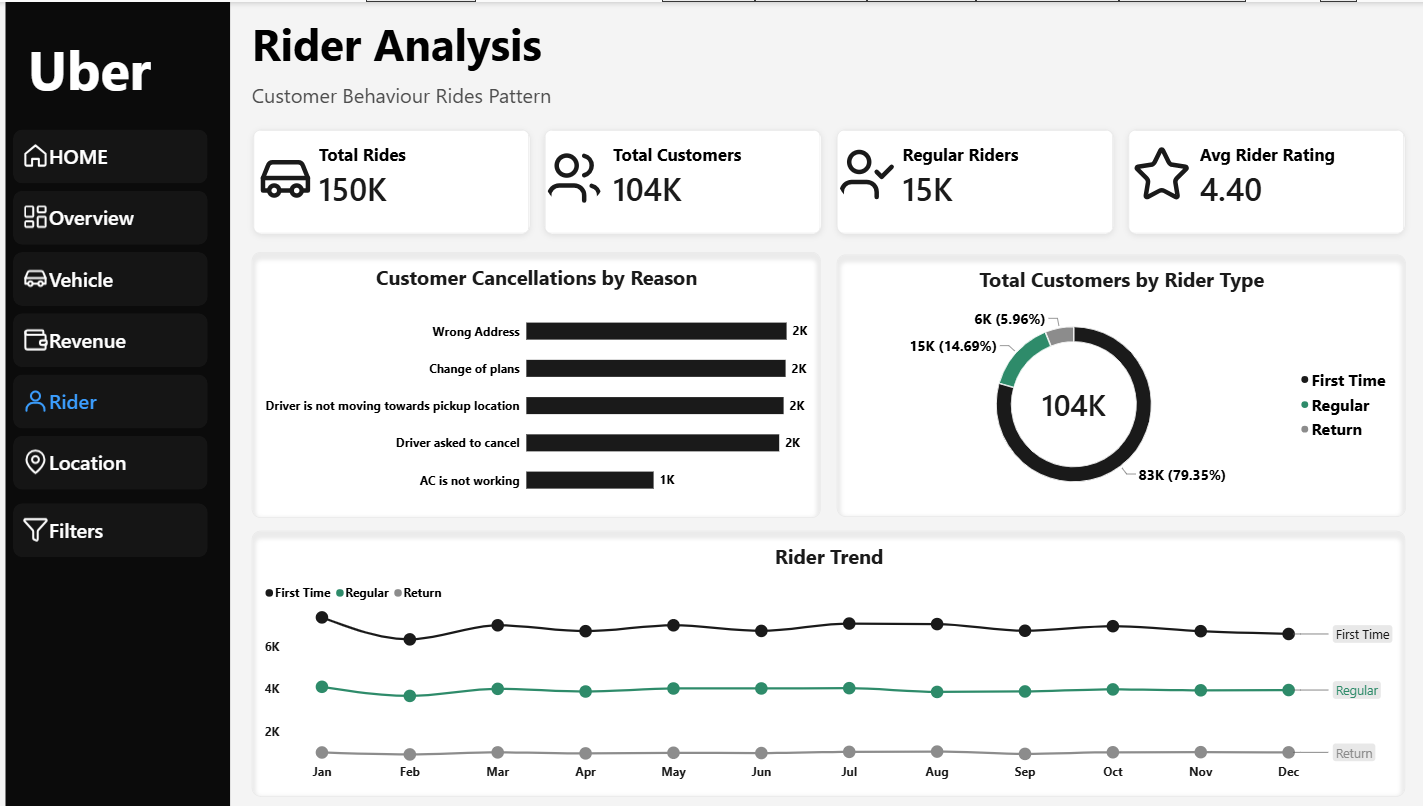

This screenshot's page, from the dashboard's own definition file:
{"tool":"powerbi","page":{"name":"Rider","canvas":[1920,1080],"ordinal":4},"visuals":[{"type":"shape","box":[10,0,300,1080],"z":0},{"type":"textbox","box":[40,40,305.1,162.3],"z":1000},{"type":"actionButton","box":[20,170,260,72],"z":2000},{"type":"actionButton","box":[20,252,260,72],"z":3000},{"type":"actionButton","box":[20,334,260,72],"z":5000},{"type":"actionButton","box":[20,416,260,72],"z":6000},{"type":"actionButton","box":[20,498,260,72],"z":7000},{"type":"actionButton","box":[20,580,260,72],"z":8000},{"type":"textbox","box":[339.8,15.1,499.9,132],"z":9000},{"type":"textbox","box":[339.8,82.2,560.5,99.6],"z":10000},{"type":"cardVisual","fields":{"Data":["ALL_Measures.Total Rides"]},"box":[340,170,370,140],"z":11000},{"type":"image","box":[344.1,190,80,80],"z":12000},{"type":"cardVisual","fields":{"Data":["ALL_Measures.Total Customers"]},"box":[730,170,370,140],"z":13000},{"type":"image","box":[730,190,80,80],"z":14000},{"type":"cardVisual","fields":{"Data":["ALL_Measures.Regular Riders"]},"box":[1120,170,370,140],"z":15000},{"type":"image","box":[1120,190.4,80,80],"z":16000},{"type":"cardVisual","fields":{"Data":["ALL_Measures.Avg Rider Rating"]},"box":[1510,170,370,140],"z":17000},{"type":"image","box":[1514.1,190,80,80],"z":18000},{"type":"lineChart","title":"Rider Trend","fields":{"Category":["Calendar.Month"],"Series":["Bookings.Rider Type"],"Y":["ALL_Measures.Total Customers"]},"box":[339.8,705.5,1540.9,354.9],"z":19000},{"type":"actionButton","title":"Btn_filter","box":[19.9,669.6,260,72],"z":20000},{"type":"clusteredBarChart","title":"Customer Cancellations by Reason","fields":{"Category":["Bookings.Reason for cancelling by Customer"],"Y":["ALL_Measures.Customer Cancellations"]},"box":[339.8,333.3,759.6,354.9],"z":24000},{"type":"donutChart","fields":{"Category":["Bookings.Rider Type"],"Y":["ALL_Measures.Total Customers"]},"box":[1121,337.6,759.6,350.6],"z":25000}]}

Visuals, with their boxes on the page's 1920x1080 design canvas (x1, y1, x2, y2). These are canvas units, not pixel positions in the 1423x806 screenshot, which may show the page scaled, cropped or inside an application window:
shape: rect(10, 0, 310, 1080)
textbox: rect(40, 40, 345, 202)
actionButton: rect(20, 170, 280, 242)
actionButton: rect(20, 252, 280, 324)
actionButton: rect(20, 334, 280, 406)
actionButton: rect(20, 416, 280, 488)
actionButton: rect(20, 498, 280, 570)
actionButton: rect(20, 580, 280, 652)
textbox: rect(340, 15, 840, 147)
textbox: rect(340, 82, 900, 182)
cardVisual - ALL_Measures.Total Rides: rect(340, 170, 710, 310)
image: rect(344, 190, 424, 270)
cardVisual - ALL_Measures.Total Customers: rect(730, 170, 1100, 310)
image: rect(730, 190, 810, 270)
cardVisual - ALL_Measures.Regular Riders: rect(1120, 170, 1490, 310)
image: rect(1120, 190, 1200, 270)
cardVisual - ALL_Measures.Avg Rider Rating: rect(1510, 170, 1880, 310)
image: rect(1514, 190, 1594, 270)
"Rider Trend" lineChart: rect(340, 706, 1881, 1060)
"Btn_filter" actionButton: rect(20, 670, 280, 742)
"Customer Cancellations by Reason" clusteredBarChart: rect(340, 333, 1099, 688)
donutChart - Bookings.Rider Type x ALL_Measures.Total Customers: rect(1121, 338, 1881, 688)
